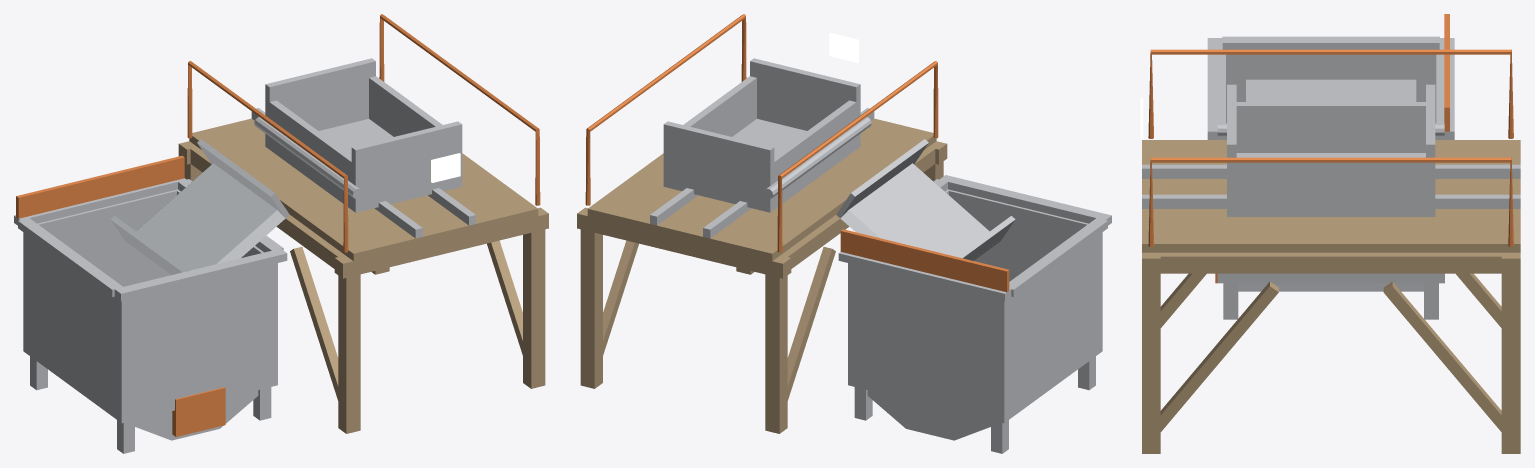
Rendered from underground-mine-and-shaft-works-rail-tipple-7239f34e.glb.
The picture shows the model from 3 angles, left to right: view 1: azimuth 30°, elevation 25°; view 2: azimuth 150°, elevation 25°; view 3: azimuth 270°, elevation 25°; orthographic projection. The views are drawn at different scales.
Parts seen in each view (by area): view 1: rail-tipple, cradle; view 2: rail-tipple, cradle; view 3: rail-tipple, cradle.
Part boxes in pixels (box(x1,y1,x2,y2)): rail-tipple: box(14, 14, 548, 453); cradle: box(254, 58, 462, 212); rail-tipple: box(577, 14, 1111, 453); cradle: box(663, 58, 871, 212); rail-tipple: box(1140, 14, 1520, 453); cradle: box(1217, 84, 1444, 216).
Size of the model in its own units: 5.65 by 3.43 by 4.01.
